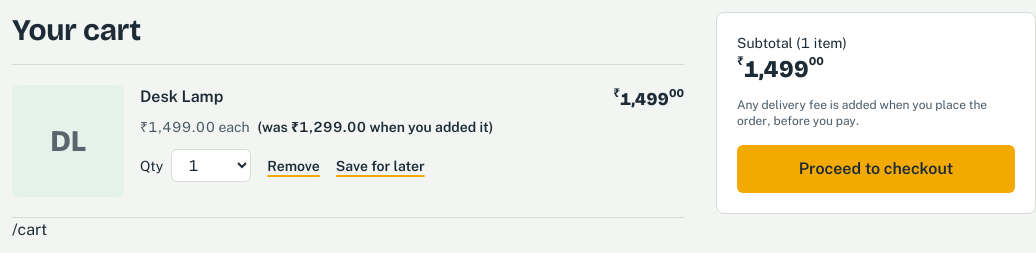
Test: cart page › changes quantities, tells about price changes and empties
Check: the text "(was ₹1,299.00 when you added it)" is shown, box [258,119,493,135]
Select "3" in the dropdown labelled "Qty" at (211, 166), box [171,149,251,182]
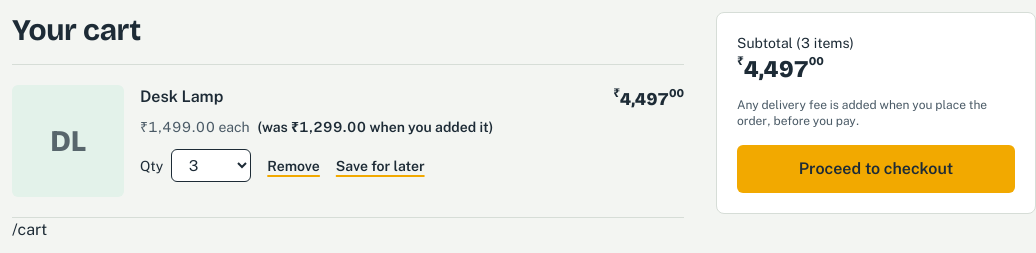
Check: the element named "₹4,497.00" is shown, box [737,53,824,85]
Click the button "Remove" at (294, 166), box [267,156,320,176]
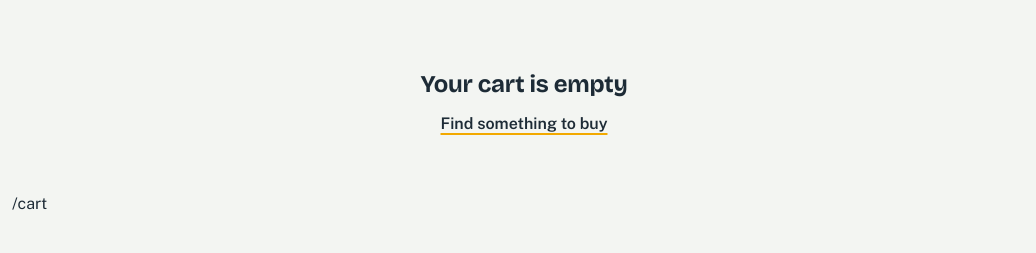
Check: the heading "Your cart is empty" is shown, box [420,70,628,98]
